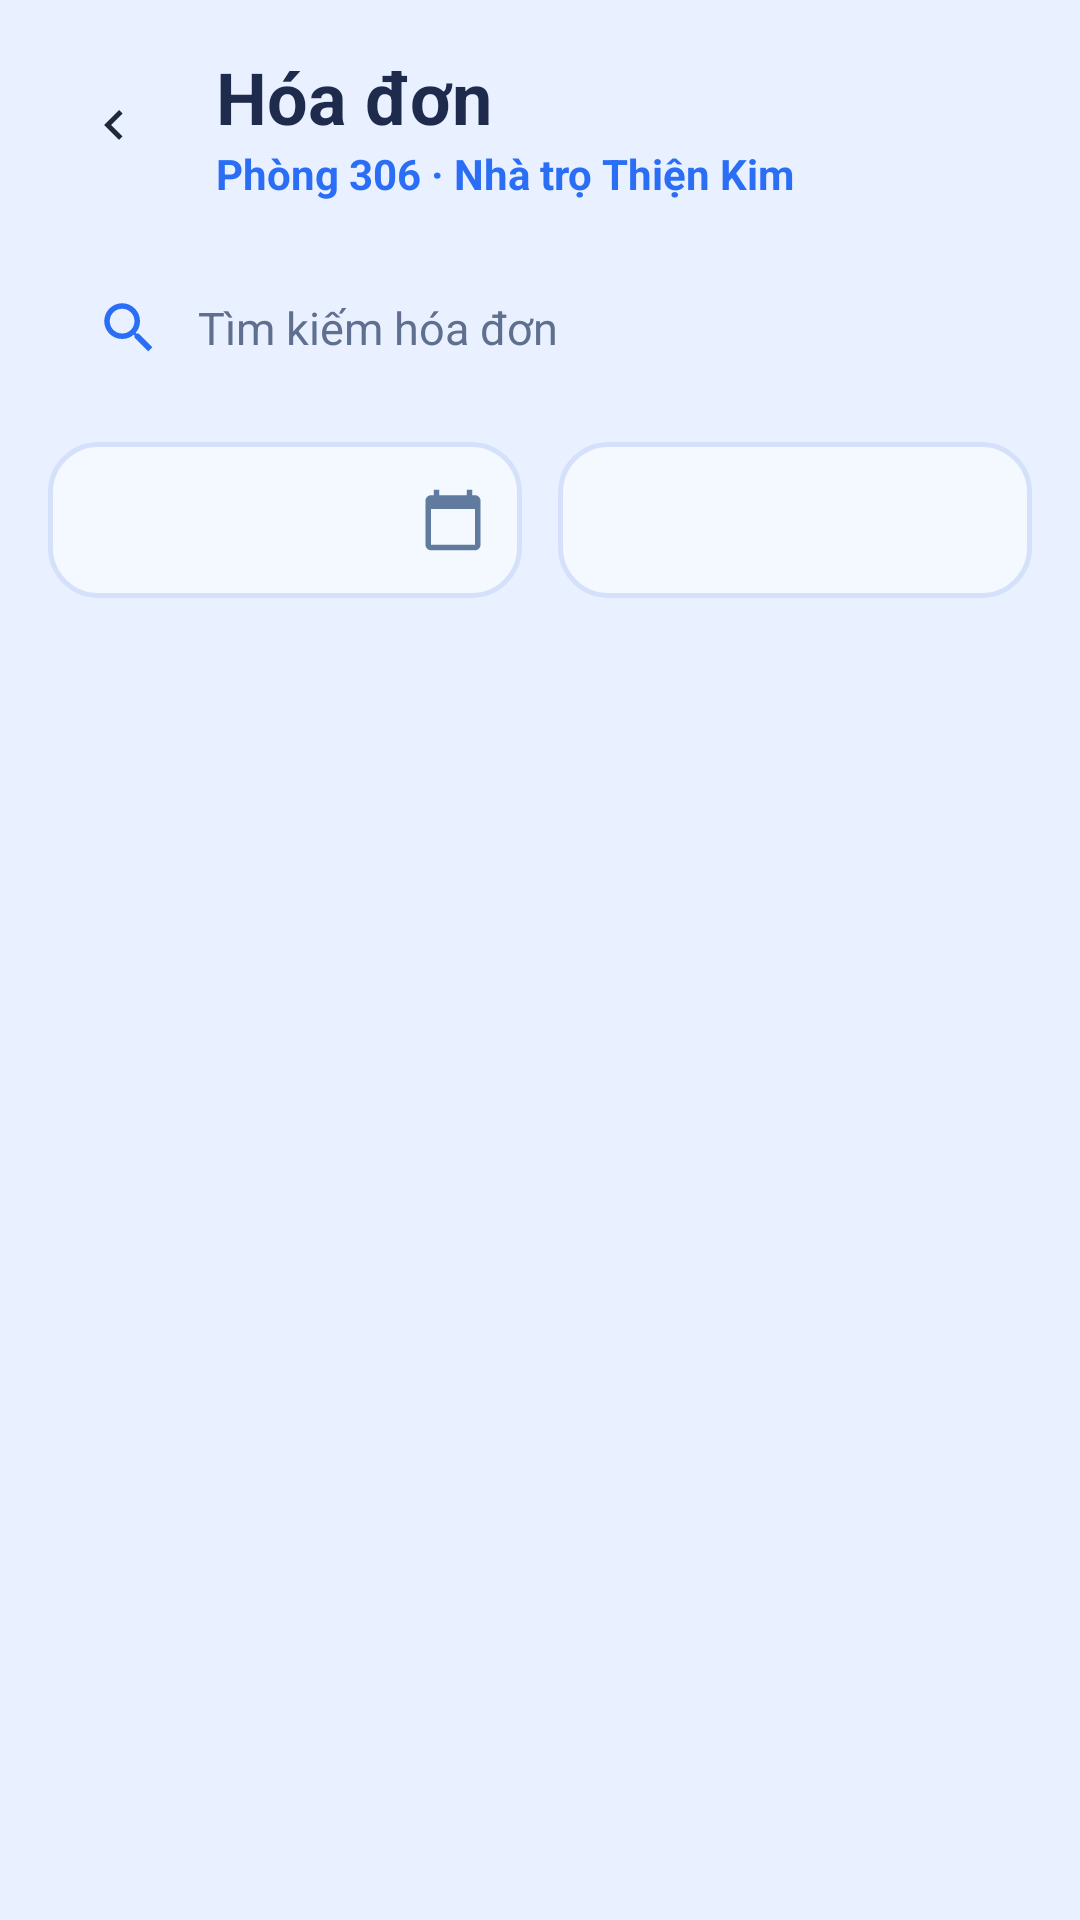

Where icons sit on this 1080px×1920px app screen, as BBox(x1, y1, x2, y2):
Chọn ngày: BBox(425, 489, 481, 551)
Quay lại: BBox(104, 110, 123, 140)
